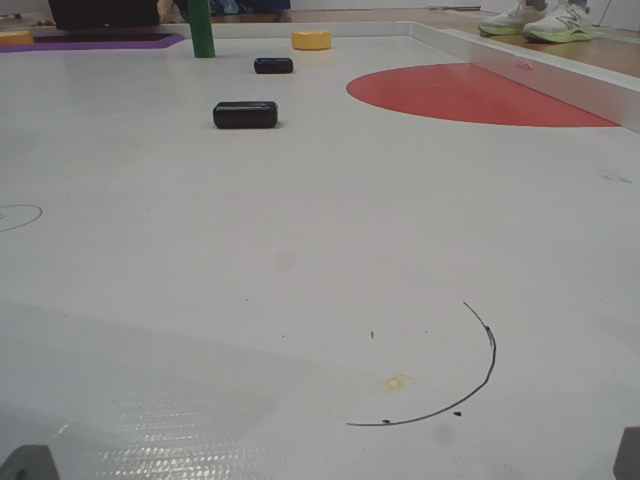black: (212, 99, 279, 124), (249, 58, 292, 75)
kuang: (1, 32, 187, 56)
yellow: (291, 29, 340, 51), (1, 31, 41, 49)
zhuzi: (185, 1, 221, 61)
